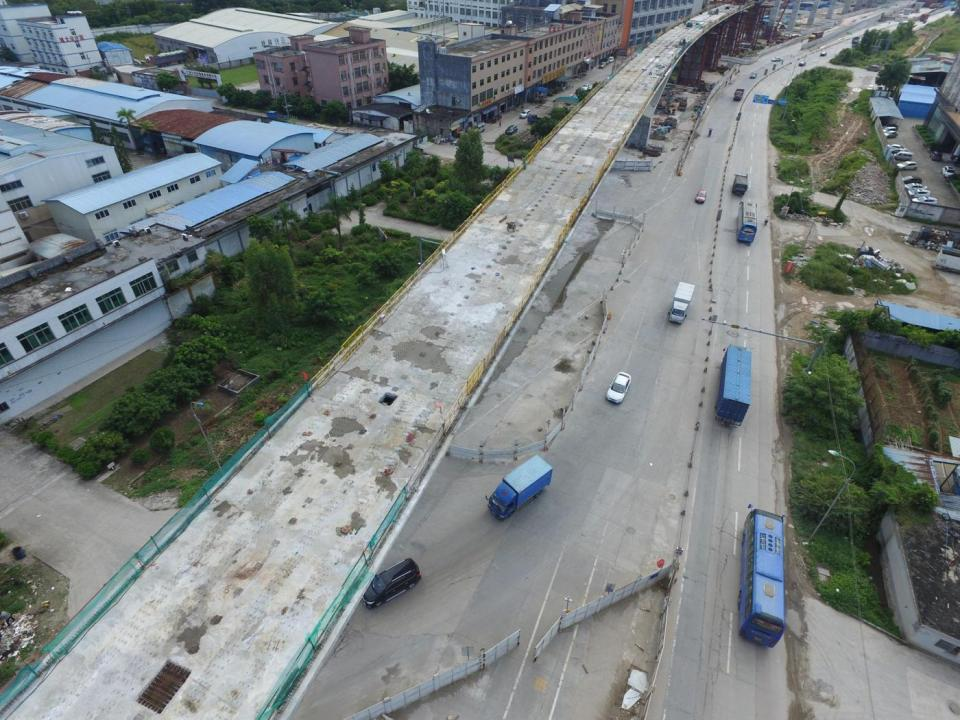bus: (740, 504, 786, 647), (736, 200, 757, 244)
car: (360, 556, 422, 610), (604, 371, 634, 405), (897, 161, 917, 170), (909, 188, 931, 196), (929, 149, 942, 162), (695, 190, 707, 203), (942, 166, 955, 178), (905, 183, 927, 190), (912, 198, 937, 204), (903, 176, 922, 183), (888, 144, 909, 150), (885, 130, 898, 138), (506, 124, 516, 134), (891, 149, 910, 154), (882, 126, 897, 132), (519, 110, 530, 118), (750, 72, 757, 79), (771, 57, 782, 61), (583, 84, 590, 89), (800, 61, 806, 66), (821, 52, 827, 56)
truck: (488, 453, 552, 522), (716, 344, 751, 426), (666, 281, 695, 326), (730, 173, 748, 195), (267, 110, 287, 120), (808, 30, 823, 42), (733, 88, 744, 101)
van: (894, 152, 914, 160), (474, 123, 485, 132), (866, 66, 878, 71), (599, 62, 606, 68), (604, 59, 610, 65), (609, 56, 614, 62)
